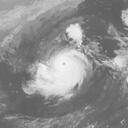cyclone: (23, 48, 88, 99)
